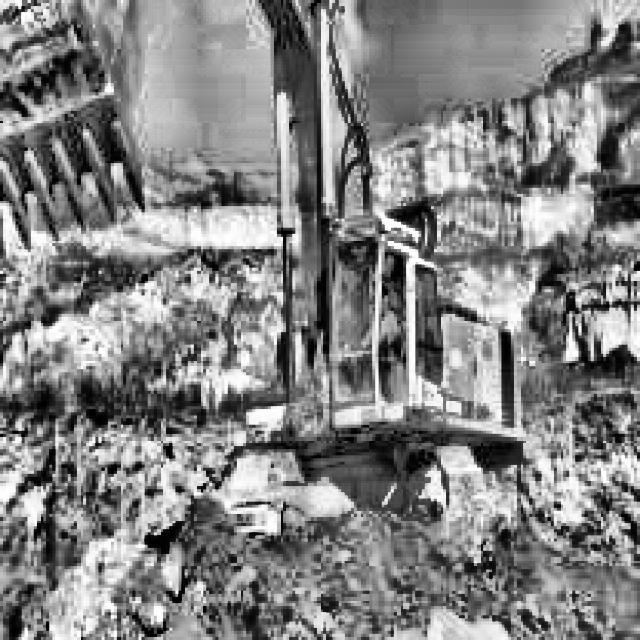excavator: (0, 0, 529, 551)
